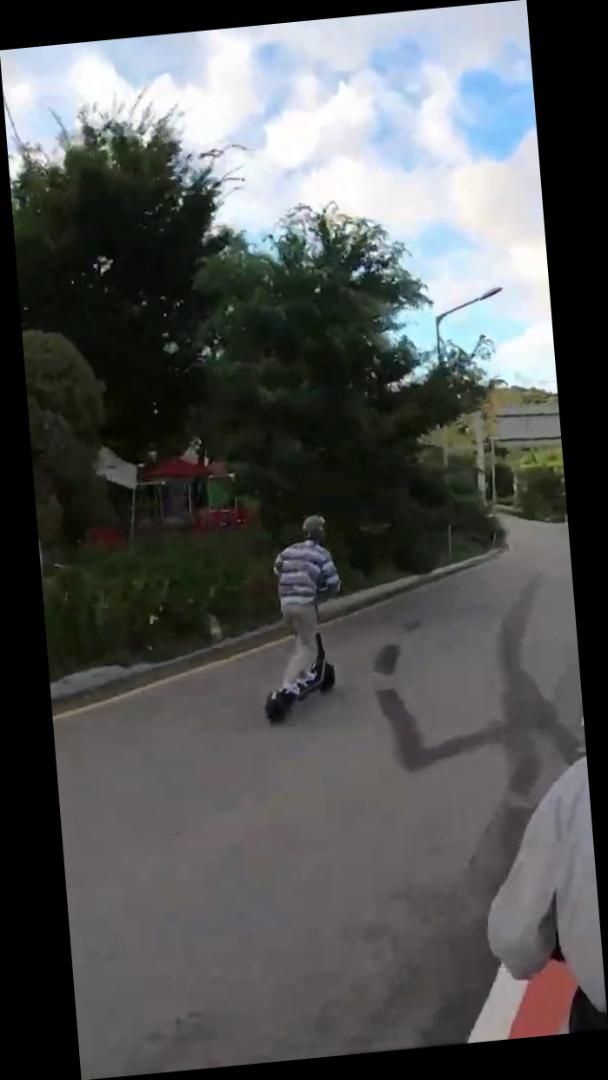helmet: (249, 508, 358, 727)
